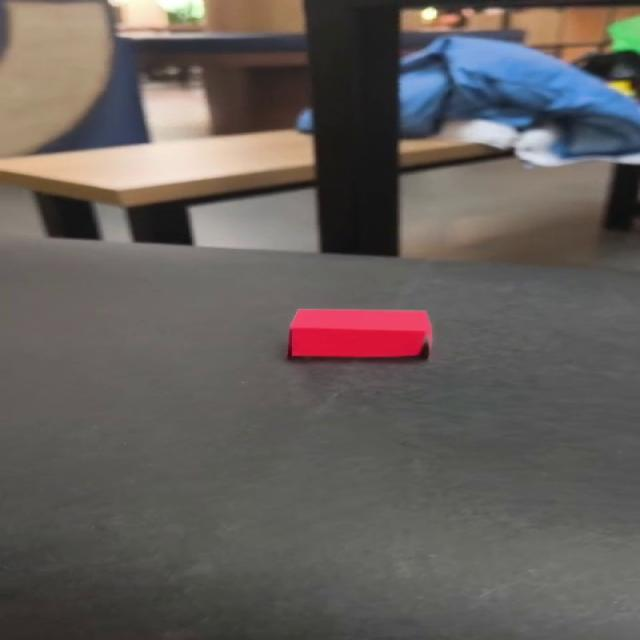red block: (287, 308, 433, 360)
